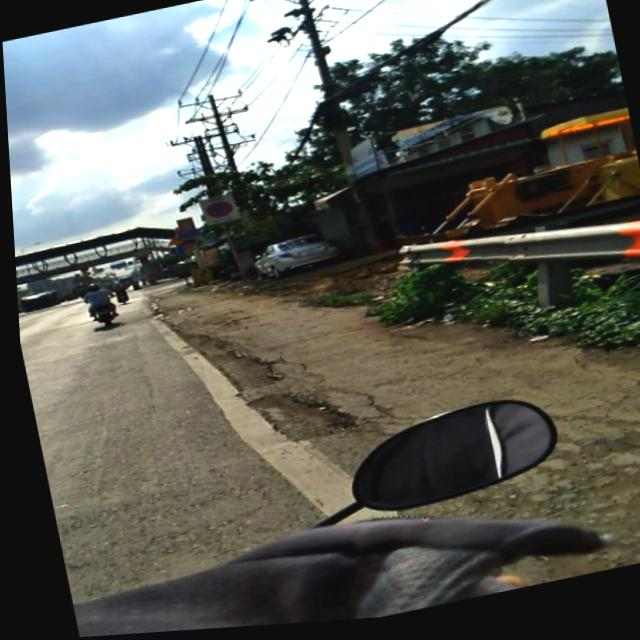Cam dung xe va do xe: (202, 202, 232, 223)
